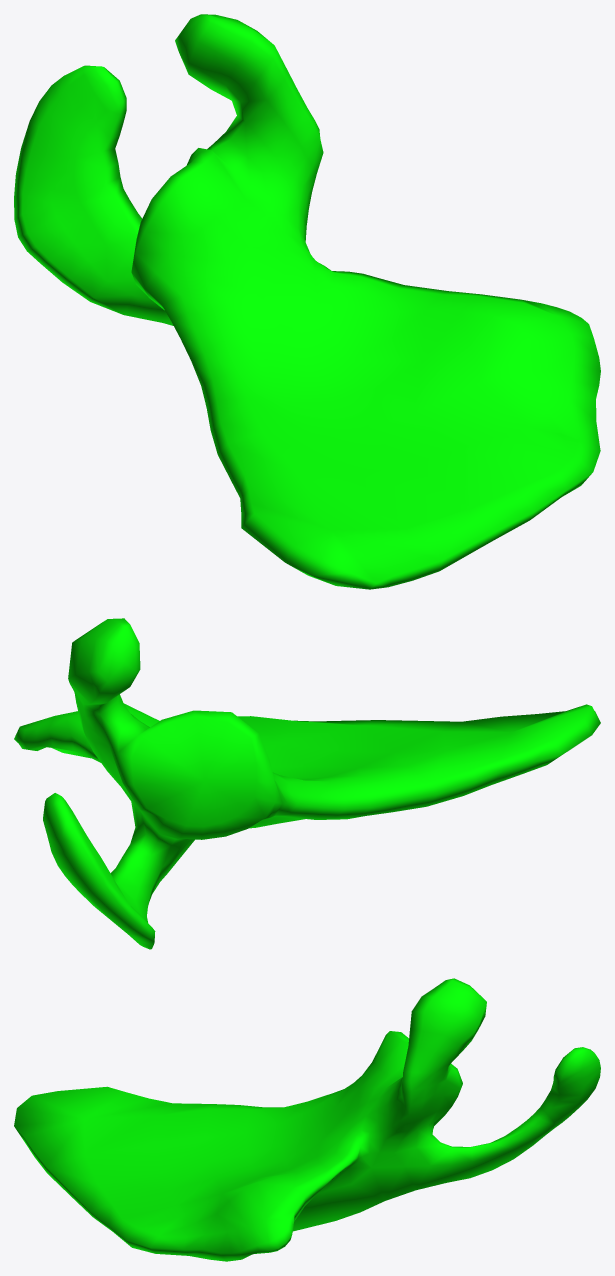
The model's file is SM_R_Scapula.FBX.
3 renders of one model, top to bottom at view 1: azimuth 30°, elevation 25°; view 2: azimuth 150°, elevation 25°; view 3: azimuth 270°, elevation 25°, orthographic. The views are drawn at different scales.
Visible parts, largest first — view 1: R_Scapula; view 2: R_Scapula; view 3: R_Scapula.
Boxes of the visible parts, <box> form: R_Scapula: <box>14,14,600,589</box>; R_Scapula: <box>14,618,600,949</box>; R_Scapula: <box>14,978,600,1261</box>.
Bounding box in the file's own units: 12.13 × 8.22 × 19.42.
